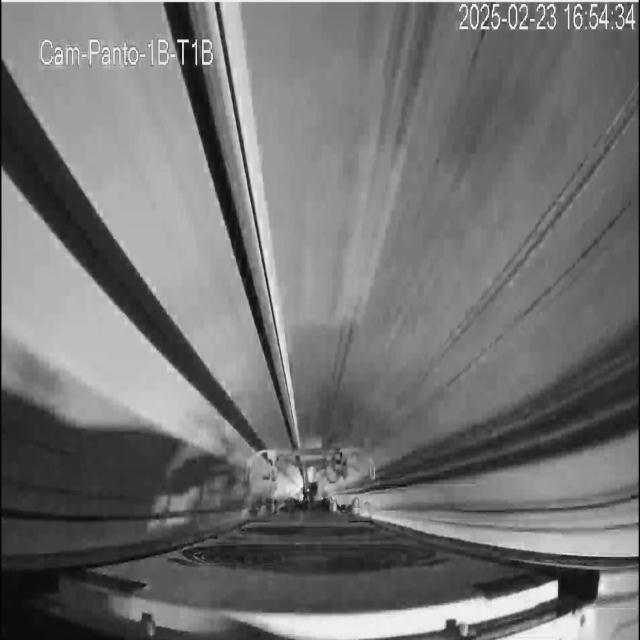Camera Stamp: (44, 32, 218, 69)
Date Stamp: (458, 3, 636, 33)
